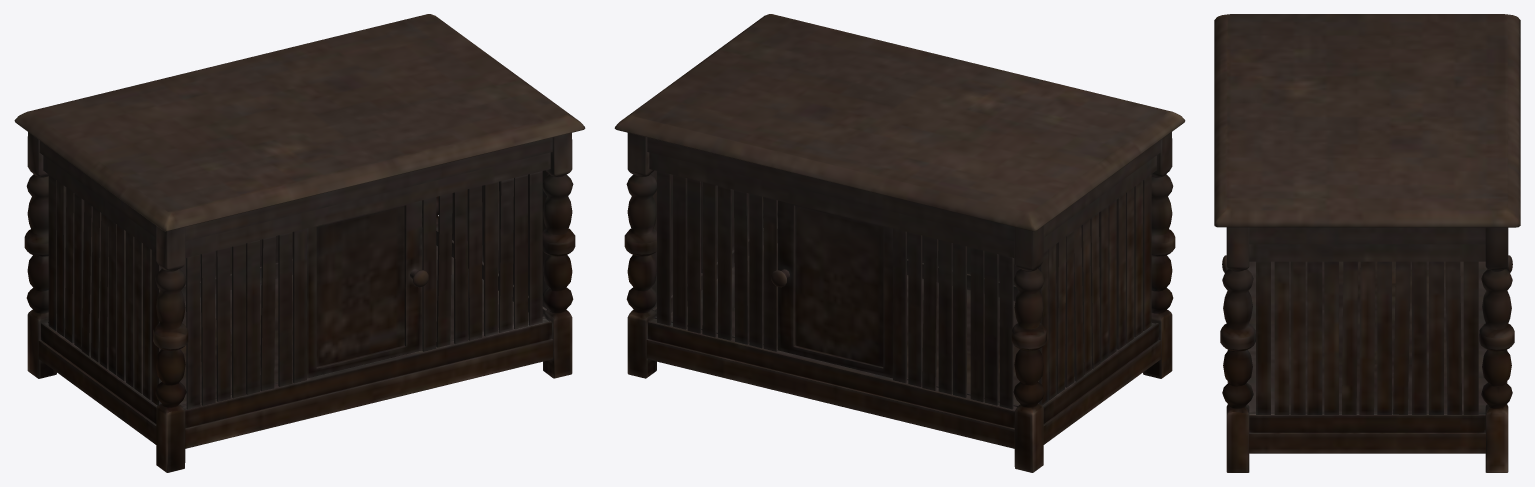
File: gallinera_table.glb
The picture shows the model from 3 angles, left to right: view 1: azimuth 30°, elevation 25°; view 2: azimuth 150°, elevation 25°; view 3: azimuth 270°, elevation 25°; orthographic projection.
Visible parts, largest first — view 1: gallinera_table, gallinera_table_door_a; view 2: gallinera_table, gallinera_table_door_b; view 3: gallinera_table.
Boxes of the visible parts, x1,y1,x2,y2 form: gallinera_table: [14, 14, 585, 472]; gallinera_table_door_a: [307, 200, 428, 378]; gallinera_table: [614, 14, 1185, 472]; gallinera_table_door_b: [771, 200, 892, 378]; gallinera_table: [1214, 14, 1520, 472].
Bounding box in the file's own units: 0.8301 × 0.4878 × 0.5183.
Materials: 1 (1 with a texture image).
